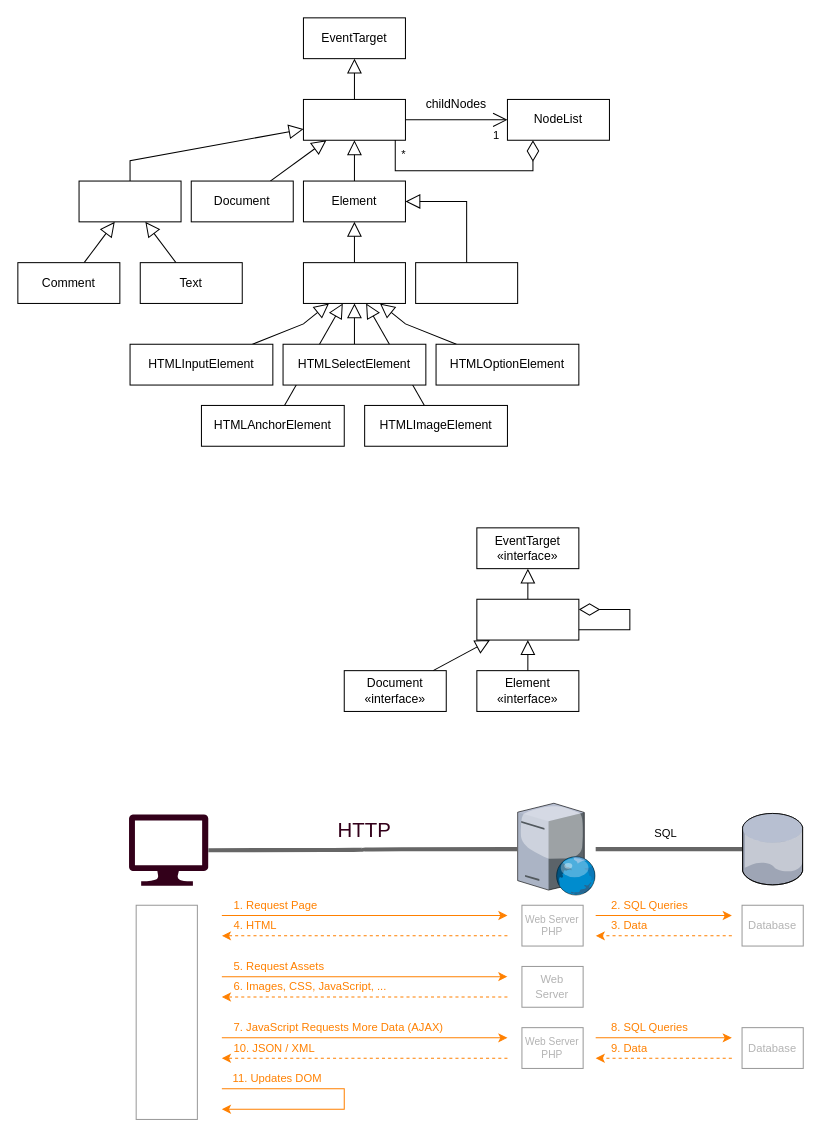
The diagram is 821 pixels wide and 1137 high, and some of its shapes have lost their labels. Here are the shapes that lost their labels. From the top down, the box of each, then its label:
(302, 98, 405, 140): Node
(78, 180, 181, 222): CharacterData
(302, 262, 405, 303): HTMLElement
(415, 262, 518, 303): SVGElement
(476, 598, 579, 640): Node «interface»
(135, 904, 197, 1119): Browser
